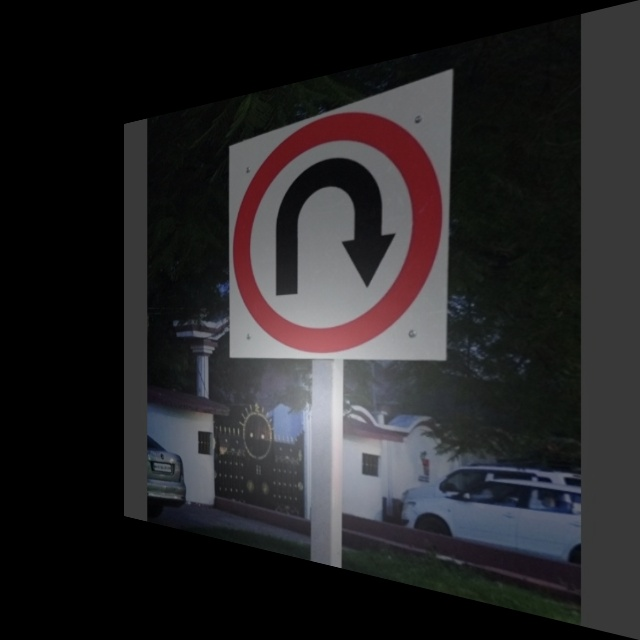U_Turn_Ahead: (226, 97, 446, 354)
